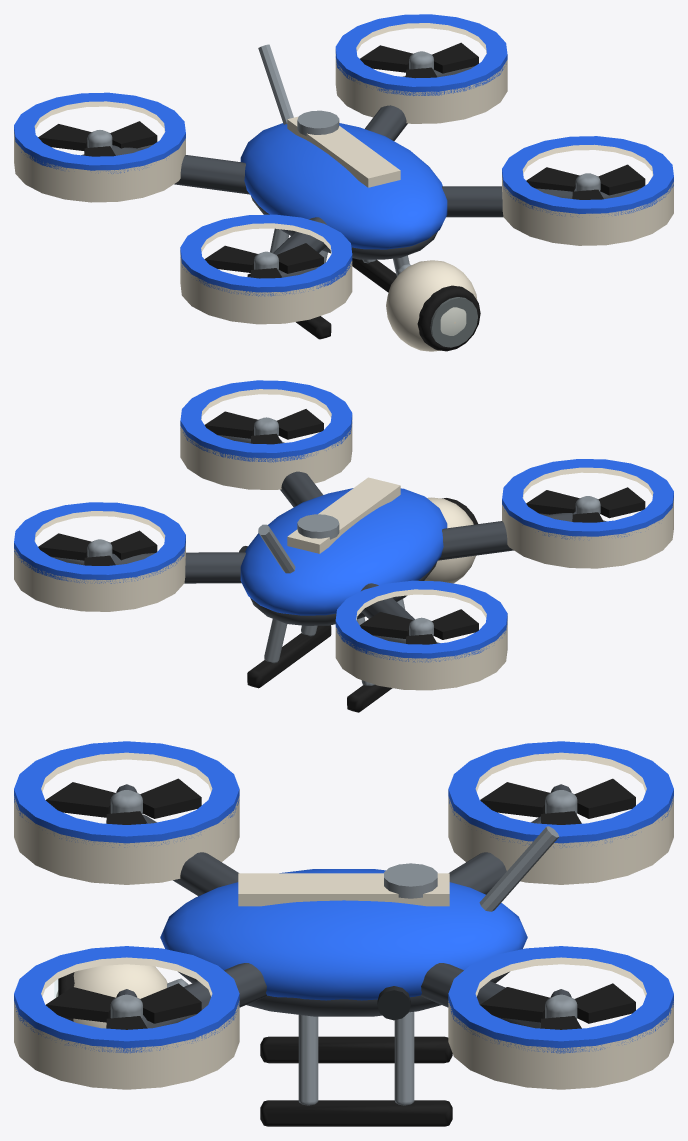
The model's file is recon_drone.glb.
The picture shows the model from 3 angles, top to bottom: view 1: azimuth 30°, elevation 25°; view 2: azimuth 150°, elevation 25°; view 3: azimuth 270°, elevation 25°; orthographic projection. The views are drawn at different scales.
Parts seen in each view (by area): view 1: airframe__M_Team, airframe__M_SmokePlastic, rd_fan_l_f__M_CreamPlastic, rd_fan_r_f__M_CreamPlastic, rd_fan_r_b__M_CreamPlastic, rd_fan_l_b__M_CreamPlastic, rd_fan_l_b__M_Team, rd_fan_r_f__M_Team, rd_fan_l_f__M_Team, rd_fan_r_b__M_Team, rd_sensor_yaw__M_CreamPlastic, airframe__M_CreamPlastic (+9 smaller); view 2: airframe__M_Team, airframe__M_SmokePlastic, rd_fan_r_b__M_CreamPlastic, rd_fan_l_b__M_CreamPlastic, rd_fan_r_f__M_CreamPlastic, rd_fan_l_f__M_CreamPlastic, rd_fan_l_f__M_Team, rd_fan_r_b__M_Team, rd_fan_l_b__M_Team, rd_fan_r_f__M_Team, airframe__M_CreamPlastic, rd_fan_r_b_rotor__M_Licorice (+8 smaller); view 3: airframe__M_Team, rd_fan_l_f__M_CreamPlastic, rd_fan_l_b__M_CreamPlastic, rd_fan_r_f__M_CreamPlastic, rd_fan_r_b__M_CreamPlastic, airframe__M_SmokePlastic, rd_fan_l_b__M_Team, rd_fan_l_f__M_Team, rd_fan_r_f__M_Team, rd_fan_r_b__M_Team, airframe__M_CreamPlastic, air_skid_l__M_Licorice (+13 smaller).
Part boxes in pixels (x1,y1,x2,y2): airframe__M_Team: (240,123,447,249); airframe__M_SmokePlastic: (111,75,575,274); rd_fan_l_f__M_CreamPlastic: (502,144,673,245); rd_fan_r_f__M_CreamPlastic: (180,223,352,324); rd_fan_r_b__M_CreamPlastic: (14,101,185,202); rd_fan_l_b__M_CreamPlastic: (335,23,507,123); rd_fan_l_b__M_Team: (335,14,507,95); rd_fan_r_f__M_Team: (180,214,352,296); rd_fan_l_f__M_Team: (502,136,673,216); rd_fan_r_b__M_Team: (14,92,185,173); rd_sensor_yaw__M_CreamPlastic: (386,260,477,351); airframe__M_CreamPlastic: (287,116,400,187); airframe__M_Team: (240,488,447,615); airframe__M_SmokePlastic: (111,439,575,625); rd_fan_r_b__M_CreamPlastic: (335,589,507,690); rd_fan_l_b__M_CreamPlastic: (14,511,185,611); rd_fan_r_f__M_CreamPlastic: (502,467,673,568); rd_fan_l_f__M_CreamPlastic: (180,389,352,489); rd_fan_l_f__M_Team: (180,380,352,462); rd_fan_r_b__M_Team: (335,580,507,662); rd_fan_l_b__M_Team: (14,502,185,583); rd_fan_r_f__M_Team: (502,459,673,539); airframe__M_CreamPlastic: (287,477,400,553); rd_fan_r_b_rotor__M_Licorice: (360,609,478,644); airframe__M_Team: (160,869,527,1000); rd_fan_l_f__M_CreamPlastic: (14,957,239,1089); rd_fan_l_b__M_CreamPlastic: (448,957,673,1089); rd_fan_r_f__M_CreamPlastic: (14,752,239,884); rd_fan_r_b__M_CreamPlastic: (448,752,673,884); airframe__M_SmokePlastic: (142,814,540,1028); rd_fan_l_b__M_Team: (448,946,673,1053); rd_fan_l_f__M_Team: (14,946,239,1053); rd_fan_r_f__M_Team: (14,741,239,847); rd_fan_r_b__M_Team: (448,741,673,847); airframe__M_CreamPlastic: (238,873,449,906); air_skid_l__M_Licorice: (260,1100,452,1126).
Size of the model in its own units: 0.85 by 0.3512 by 0.79.
